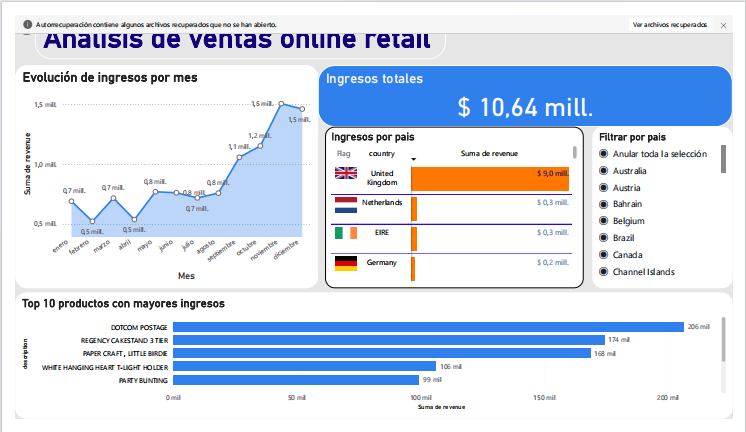

The dashboard page shown, as its layout file describes it:
{"tool":"powerbi","page":{"name":"Página 1","canvas":[1280,720],"ordinal":0},"visuals":[{"type":"card","title":"Ingresos totales","fields":{"Values":["Sum(Sheet1.revenue)"]},"box":[540,89.3,740.2,109.4],"z":0},{"type":"lineChart","title":"Evolución de ingresos por mes","fields":{"Category":["Sheet1.invoicedate.Variación.Jerarquía de fechas.Mes"],"Y":["Sum(Sheet1.revenue)"]},"box":[0,89.3,540,397.4],"z":1000},{"type":"textbox","title":"Análisis de ventas online retail ","box":[34.6,0,733,77.8],"z":2000},{"type":"tableEx","title":"Ingresos por pais","fields":{"Values":["Sheet1.Flag","Sheet1.country","Sum(Sheet1.revenue)"]},"box":[553,198.7,460.8,288],"z":3000},{"type":"listSlicer","title":"Filtrar por pais","fields":{"Values":["Sheet1.country"]},"box":[1029.6,198.7,250.6,288],"z":4000},{"type":"actionButton","box":[0,0,100,40],"z":5000},{"type":"clusteredBarChart","title":"Top 10 productos con mayores ingresos","fields":{"Category":["Sheet1.description"],"Y":["Sum(Sheet1.revenue)"]},"box":[0,495.4,1280.2,224.6],"z":6000}]}

Visuals, with their boxes on the page's 1280x720 design canvas (x1, y1, x2, y2). These are canvas units, not pixel positions in the 746x432 screenshot, which may show the page scaled, cropped or inside an application window:
"Ingresos totales" card: select_region(540, 89, 1280, 199)
"Evolución de ingresos por mes" lineChart: select_region(0, 89, 540, 487)
"Análisis de ventas online retail " textbox: select_region(35, 0, 768, 78)
"Ingresos por pais" tableEx: select_region(553, 199, 1014, 487)
"Filtrar por pais" listSlicer: select_region(1030, 199, 1280, 487)
actionButton: select_region(0, 0, 100, 40)
"Top 10 productos con mayores ingresos" clusteredBarChart: select_region(0, 495, 1280, 720)
